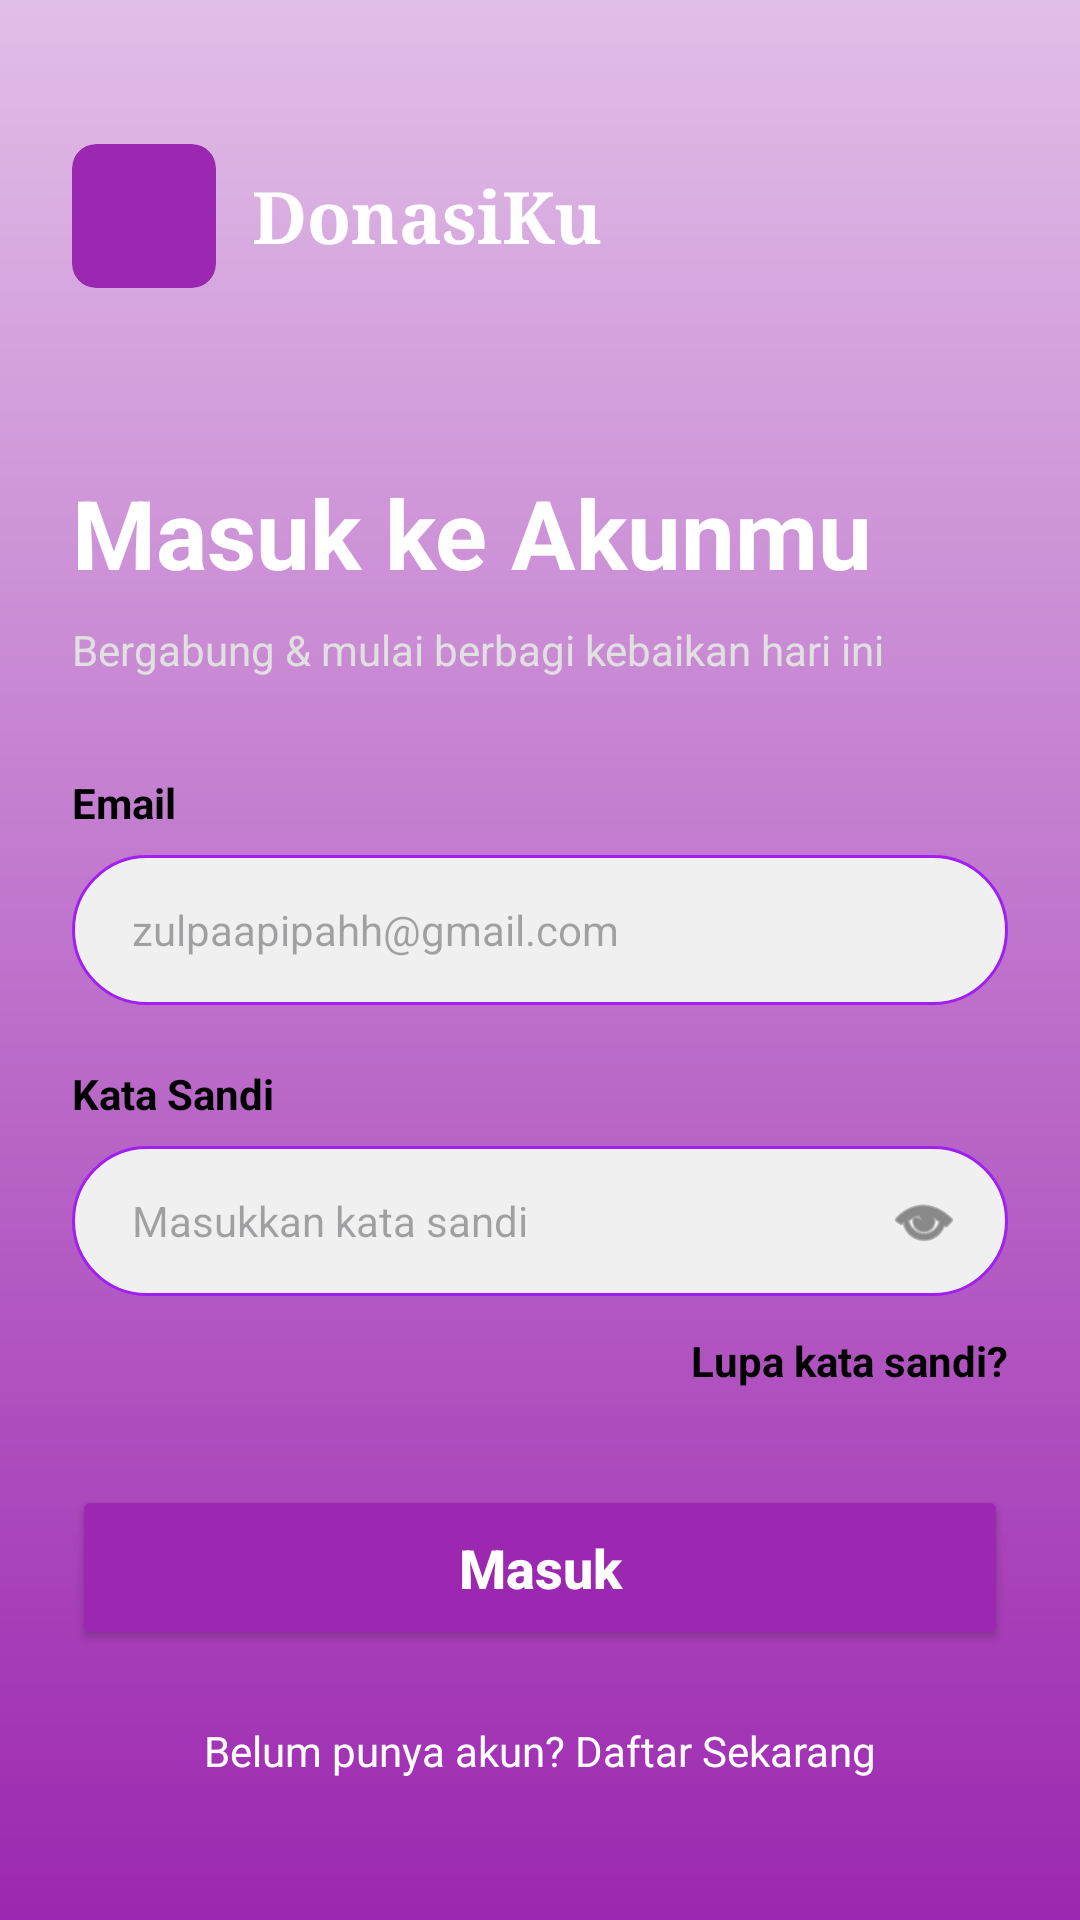

Screen size 1080px x 1920px. Icon name, then its center in pixels as (x,y):
view: (924,1222)
